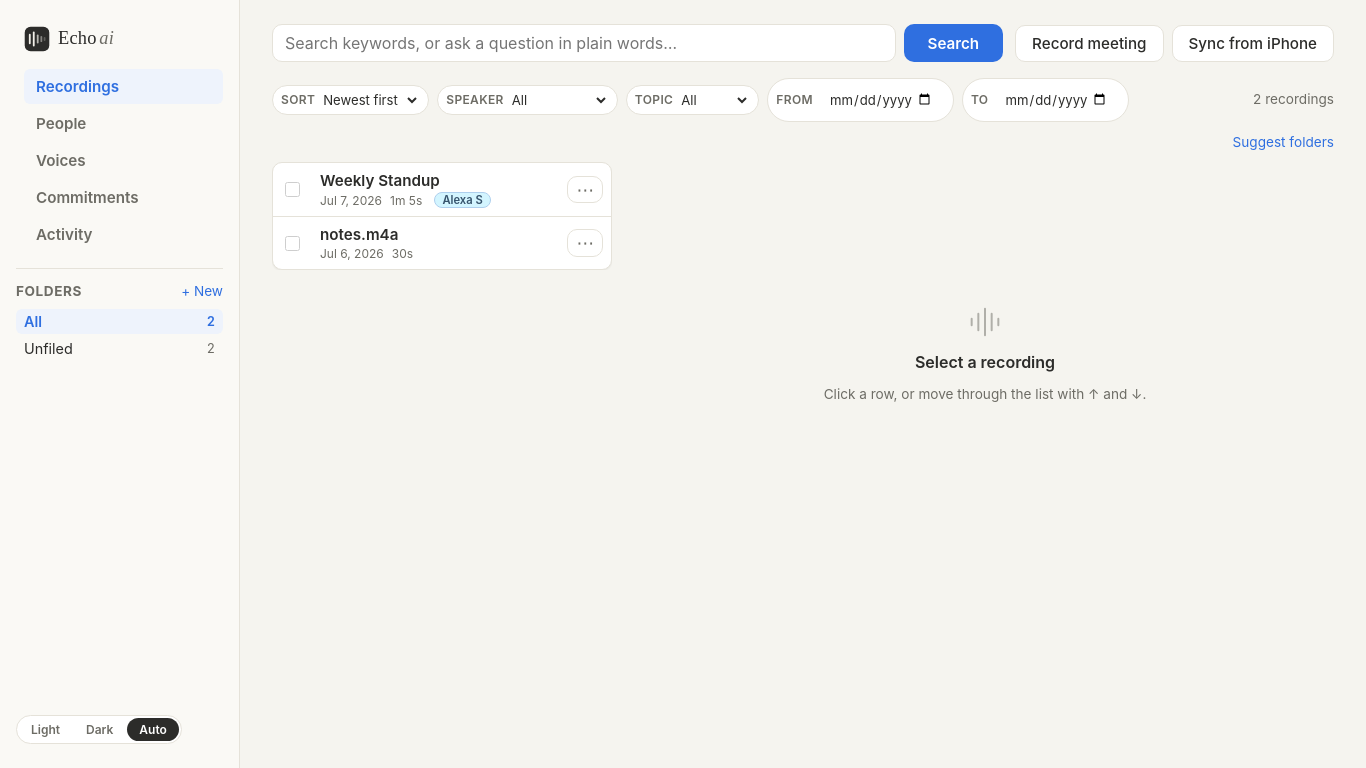
Test: App › filters recordings by topic
The width and height of the screenshot is (1366, 768).
Expected: the text "Weekly Standup" is shown, 320,171 -> 440,190
Select "budget" in the dropdown labelled "Topic". click: (714, 100)
box: 677,91 -> 750,109
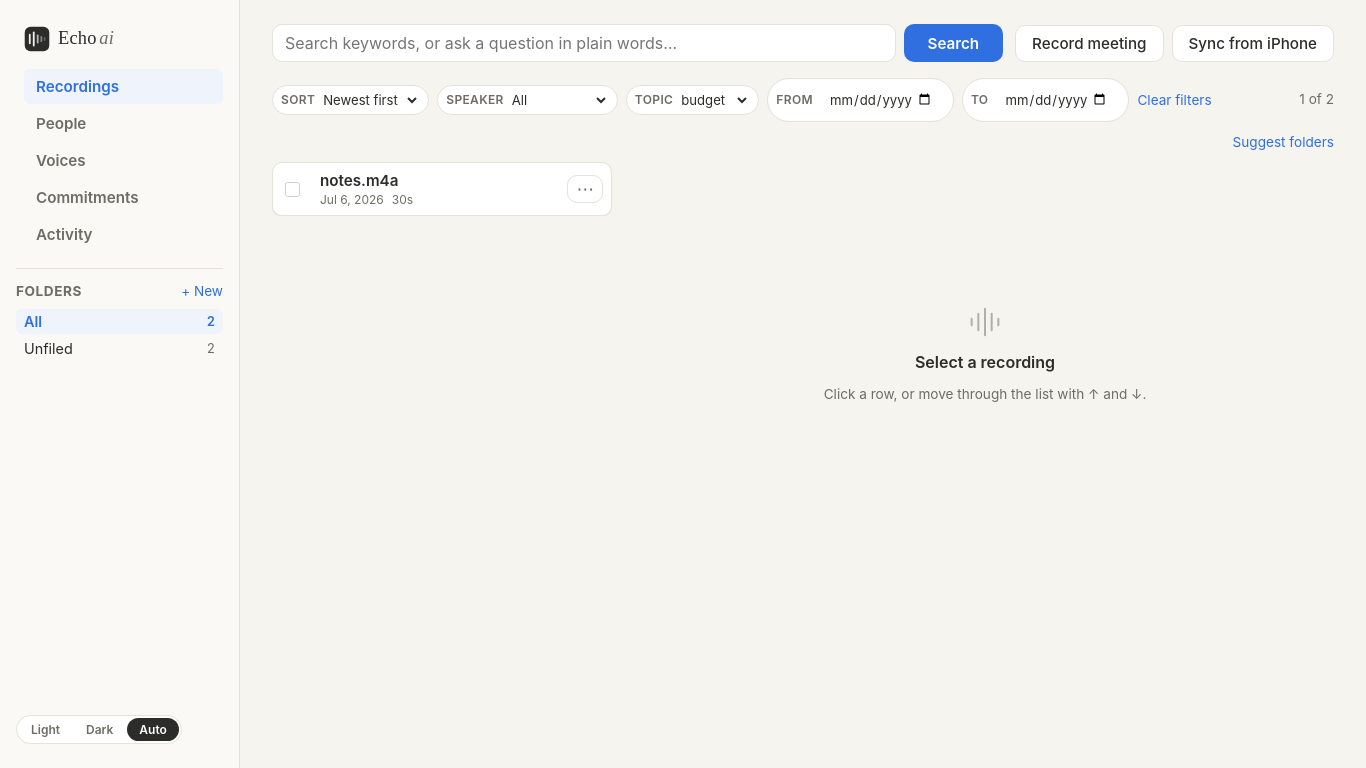
Expected: the text "notes.m4a" is shown, 320,171 -> 398,190
Expected: the button "Weekly Standup" is gone
